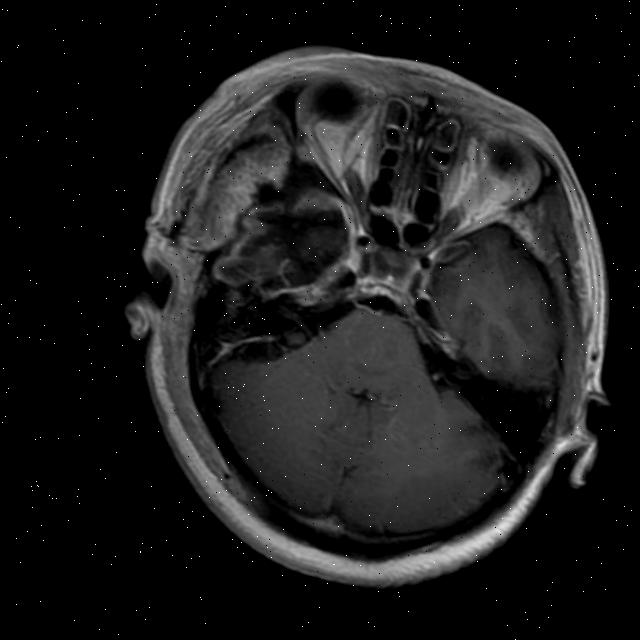Glioma: (202, 161, 362, 315)
Pituitary: (363, 241, 416, 289)
